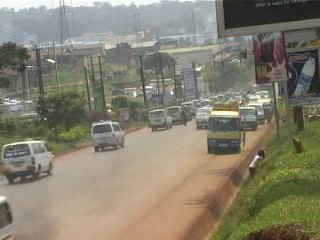Motorcycle: (178, 106, 189, 127)
